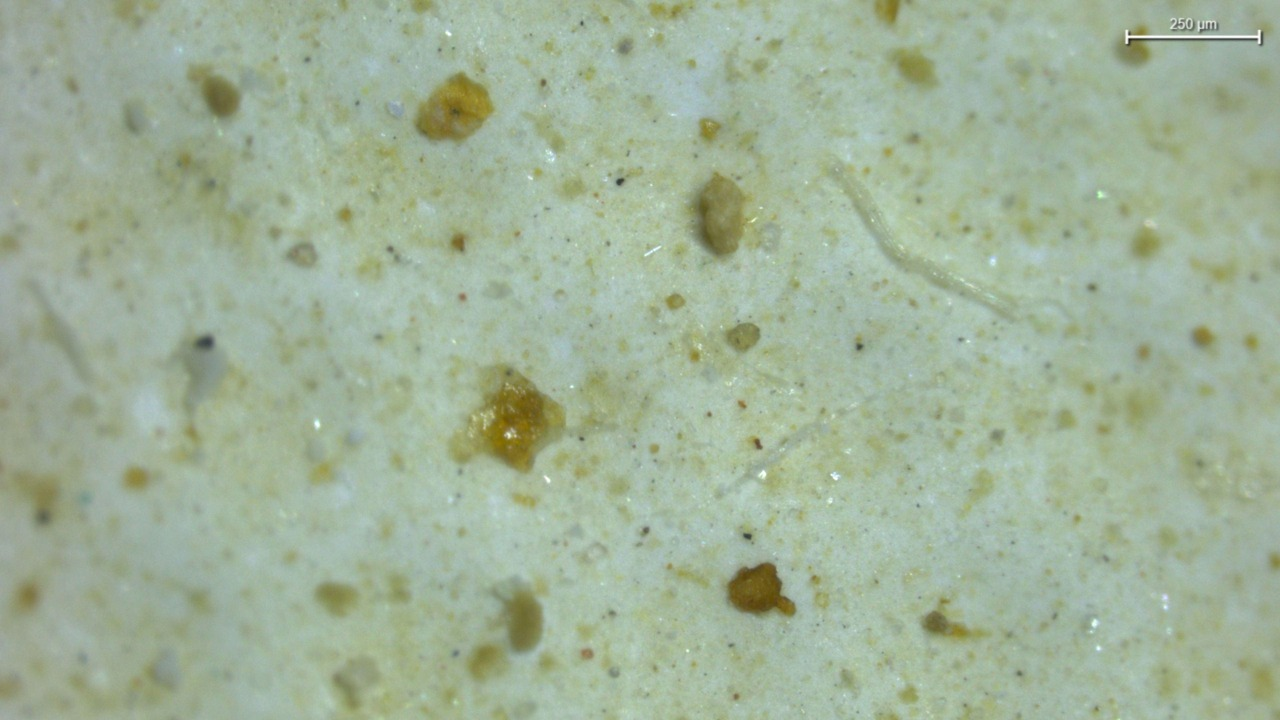microplastic_fragment: (700, 172, 745, 254)
